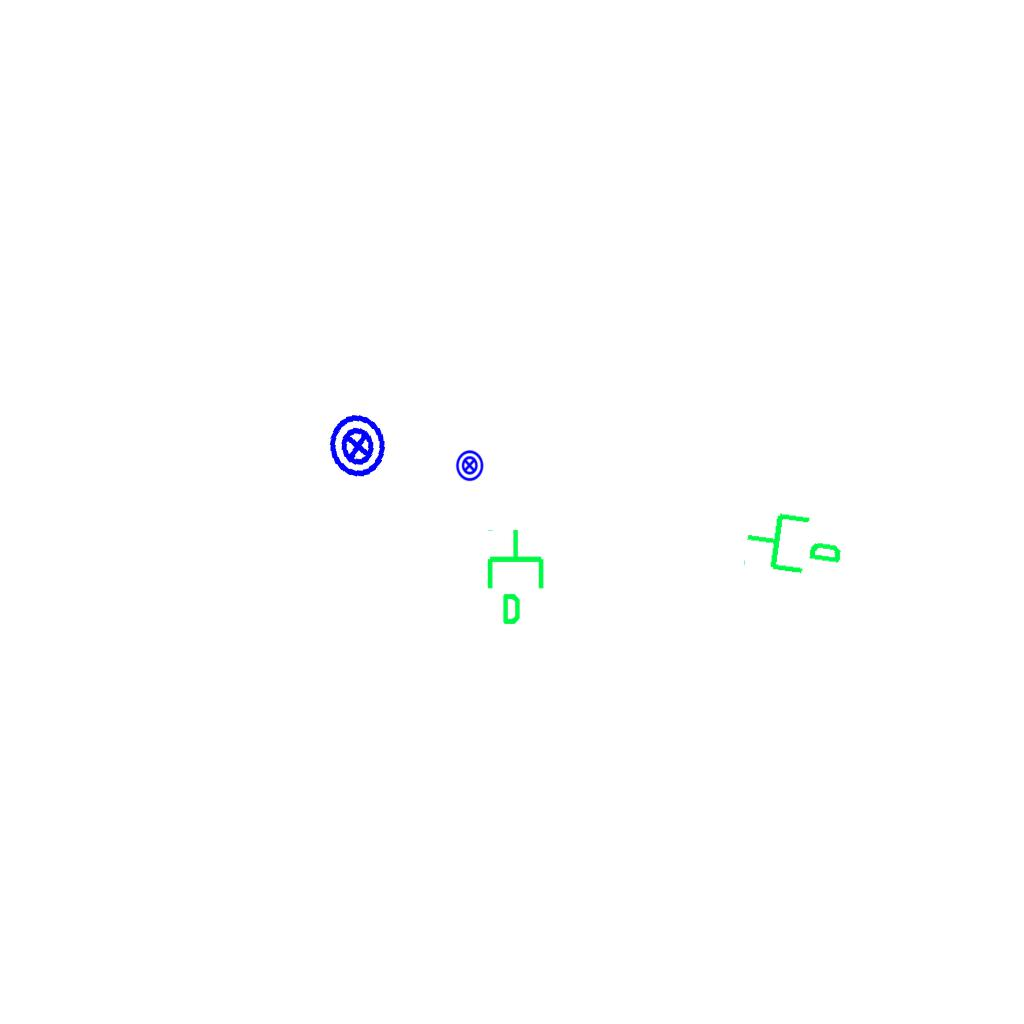Datenanschluss_einfach: (740, 500, 849, 584), (483, 527, 552, 627)
Taster_beleuchtet: (320, 408, 396, 484), (453, 449, 486, 482)
